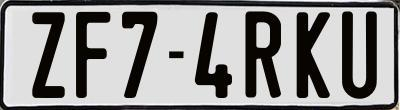4: (192, 12, 231, 98)
7: (119, 11, 160, 98)
F: (73, 9, 111, 96)
K: (294, 10, 328, 102)
R: (243, 11, 283, 98)
U: (340, 11, 381, 102)
Z: (29, 10, 66, 102)
